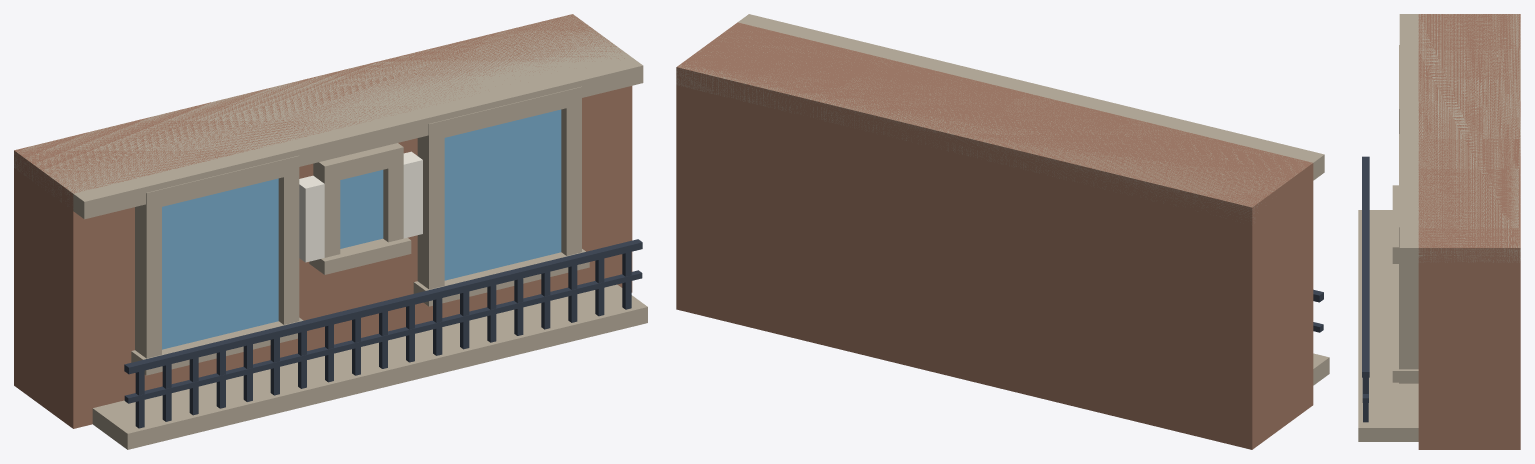
The model's file is cittaMattonePianoB.glb.
3 views of the same model, side by side, from view 1: azimuth 30°, elevation 25°; view 2: azimuth 150°, elevation 25°; view 3: azimuth 270°, elevation 25° (orthographic). The views are drawn at different scales.
Parts seen in each view (by area): view 1: cittaMattonePianoB_stone, cittaMattonePianoB_cittaMattone, cittaMattonePianoB_glass, cittaMattonePianoB_steelDark, cittaMattonePianoB_white; view 2: cittaMattonePianoB_cittaMattone, cittaMattonePianoB_stone; view 3: cittaMattonePianoB_cittaMattone, cittaMattonePianoB_stone, cittaMattonePianoB_steelDark.
Part boxes in pixels (x1,y1,x2,y2): cittaMattonePianoB_stone: (14, 14, 647, 449); cittaMattonePianoB_cittaMattone: (14, 14, 632, 428); cittaMattonePianoB_glass: (162, 109, 561, 349); cittaMattonePianoB_steelDark: (124, 239, 642, 428); cittaMattonePianoB_white: (299, 151, 422, 262); cittaMattonePianoB_cittaMattone: (676, 22, 1313, 449); cittaMattonePianoB_stone: (676, 14, 1329, 385); cittaMattonePianoB_cittaMattone: (1418, 14, 1520, 449); cittaMattonePianoB_stone: (1358, 14, 1520, 441); cittaMattonePianoB_steelDark: (1362, 156, 1369, 422).
Size of the model in its own units: 8.7 by 3.5 by 2.54.
